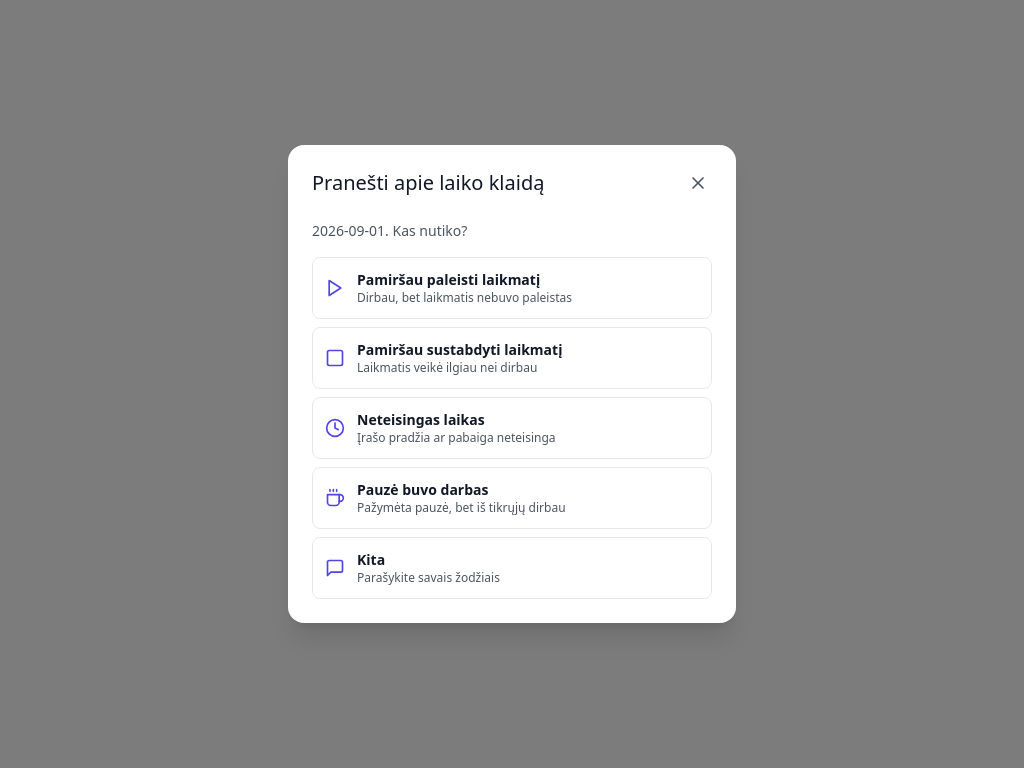
Test case: TimeCorrectionSheet › with no manager assigned, a request cannot be sent but a reduction still can
Click the button that starts with "Pamiršau paleisti laikmatį": (512,288) [312,257,712,319]
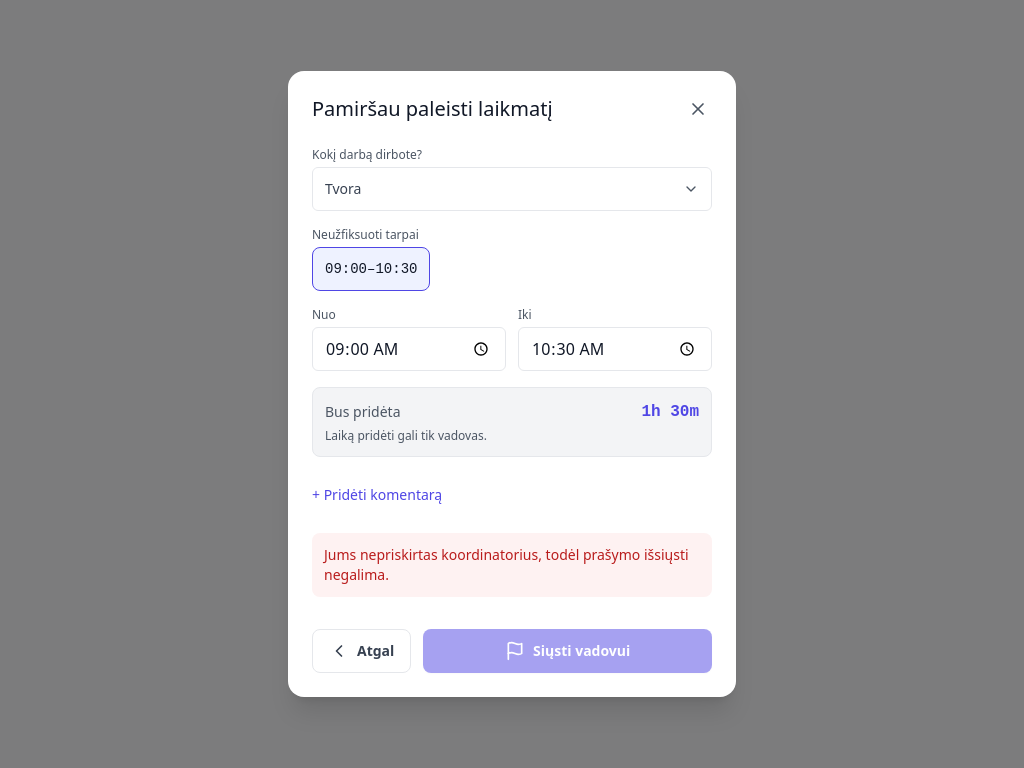
Check: the text "nepriskirtas koordinatorius" is shown, box [324,545,689,584]
Check: the button "Siųsti vadovui" is disabled, box [423,629,712,673]
